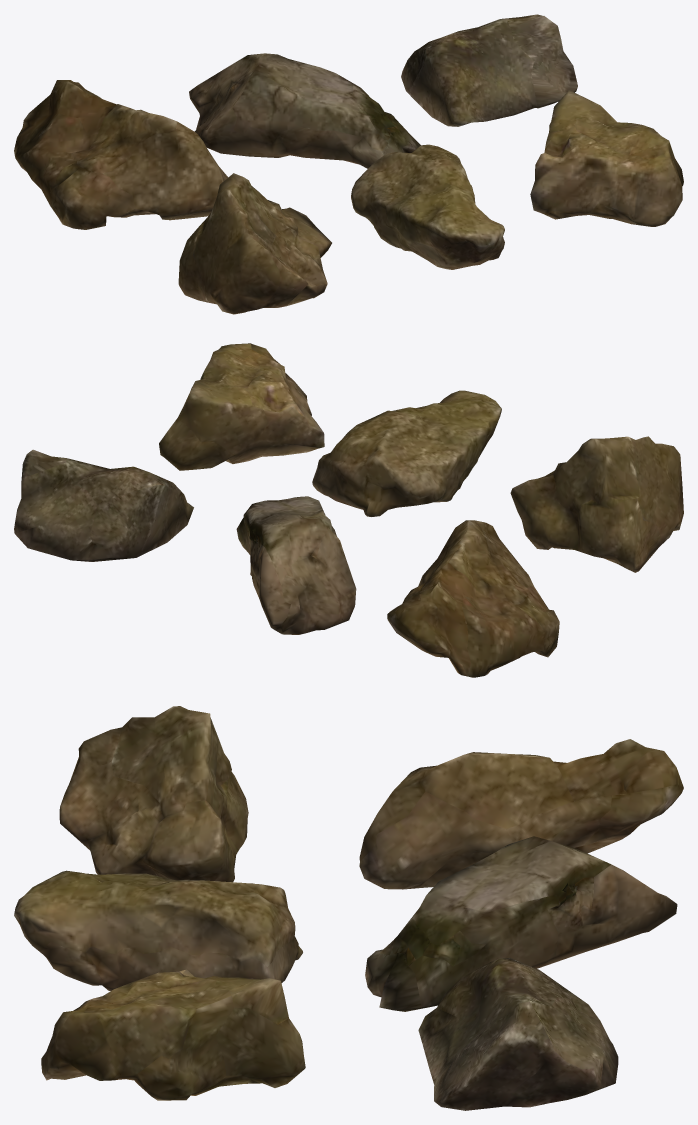
File: rock_moss_set_01.glb
The picture shows the model from 3 angles, top to bottom: view 1: azimuth 30°, elevation 25°; view 2: azimuth 150°, elevation 25°; view 3: azimuth 270°, elevation 25°; orthographic projection. The views are drawn at different scales.
Visible parts, largest first — view 1: rock_moss_set_01_rock01, rock_moss_set_01_rock02, rock_moss_set_01_rock06, rock_moss_set_01_rock04, rock_moss_set_01_rock03, rock_moss_set_01_rock05; view 2: rock_moss_set_01_rock04, rock_moss_set_01_rock01, rock_moss_set_01_rock05, rock_moss_set_01_rock03, rock_moss_set_01_rock06, rock_moss_set_01_rock02; view 3: rock_moss_set_01_rock01, rock_moss_set_01_rock02, rock_moss_set_01_rock05, rock_moss_set_01_rock04, rock_moss_set_01_rock06, rock_moss_set_01_rock03.
Boxes of the visible parts, <box> form: rock_moss_set_01_rock01: <box>14,80,227,229</box>; rock_moss_set_01_rock02: <box>189,53,420,168</box>; rock_moss_set_01_rock06: <box>530,90,683,226</box>; rock_moss_set_01_rock04: <box>178,173,331,314</box>; rock_moss_set_01_rock03: <box>401,14,577,126</box>; rock_moss_set_01_rock05: <box>351,144,504,269</box>; rock_moss_set_01_rock04: <box>510,436,683,572</box>; rock_moss_set_01_rock01: <box>387,520,559,677</box>; rock_moss_set_01_rock05: <box>312,390,501,516</box>; rock_moss_set_01_rock03: <box>14,449,193,561</box>; rock_moss_set_01_rock06: <box>159,343,324,470</box>; rock_moss_set_01_rock02: <box>236,496,356,634</box>; rock_moss_set_01_rock01: <box>359,739,683,889</box>; rock_moss_set_01_rock02: <box>365,836,677,1011</box>; rock_moss_set_01_rock05: <box>14,870,302,990</box>; rock_moss_set_01_rock04: <box>59,706,248,882</box>; rock_moss_set_01_rock06: <box>41,969,305,1100</box>; rock_moss_set_01_rock03: <box>418,958,618,1110</box>.
Bounding box in the file's own units: 8 × 1.76 × 6.94.
1 material, 1 textured.
